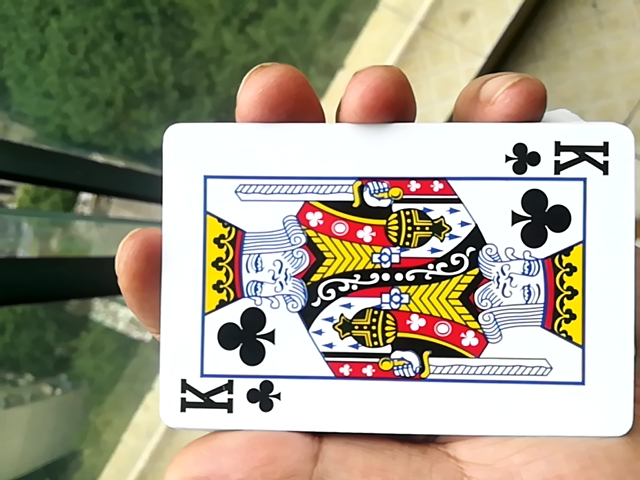mh k: (143, 116, 635, 456)
